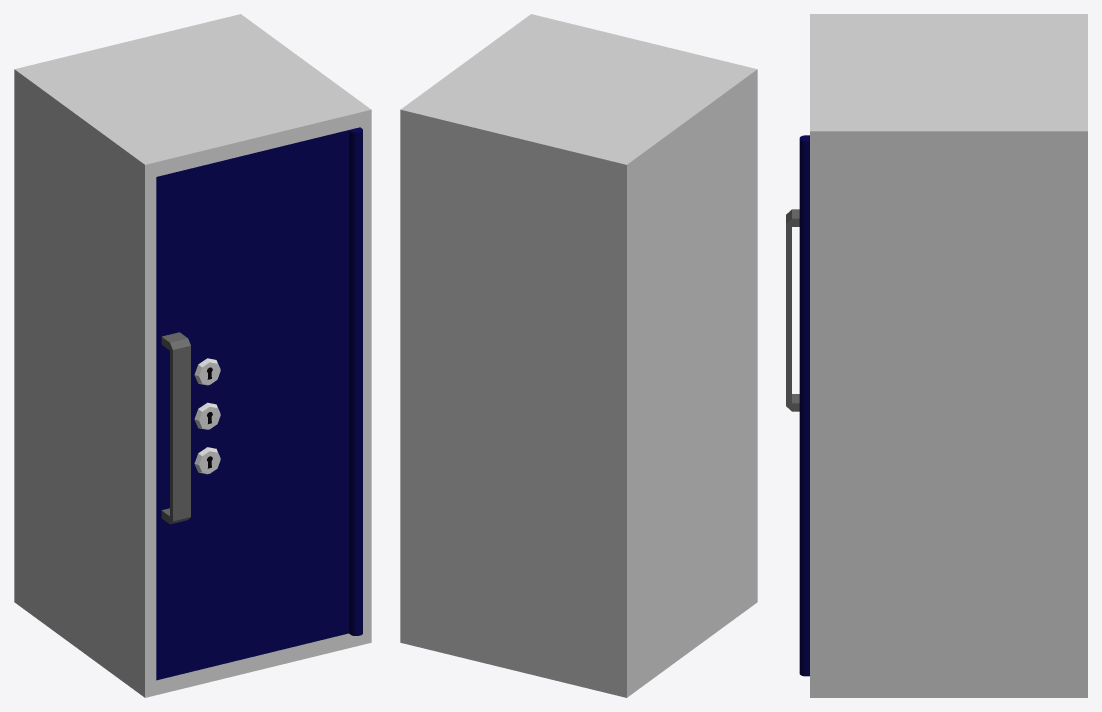
Rendered from safe.fbx.
3 views of the same model, side by side, from view 1: azimuth 30°, elevation 25°; view 2: azimuth 150°, elevation 25°; view 3: azimuth 270°, elevation 25° (orthographic). The views are drawn at different scales.
Visible parts, largest first — view 1: safe.base, safe.doors; view 2: safe.base; view 3: safe.base, safe.doors.
Boxes of the visible parts, <box> form: safe.base: <box>14,14,371,697</box>; safe.doors: <box>156,127,362,680</box>; safe.base: <box>400,14,757,697</box>; safe.base: <box>810,14,1087,697</box>; safe.doors: <box>786,135,809,676</box>.
Bounding box in the file's own units: 80 × 180 × 86.94.
